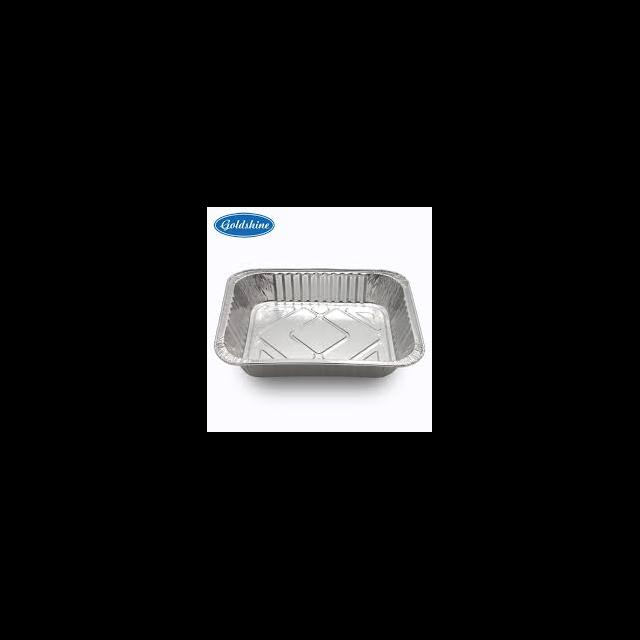metal: (213, 268, 424, 378)
